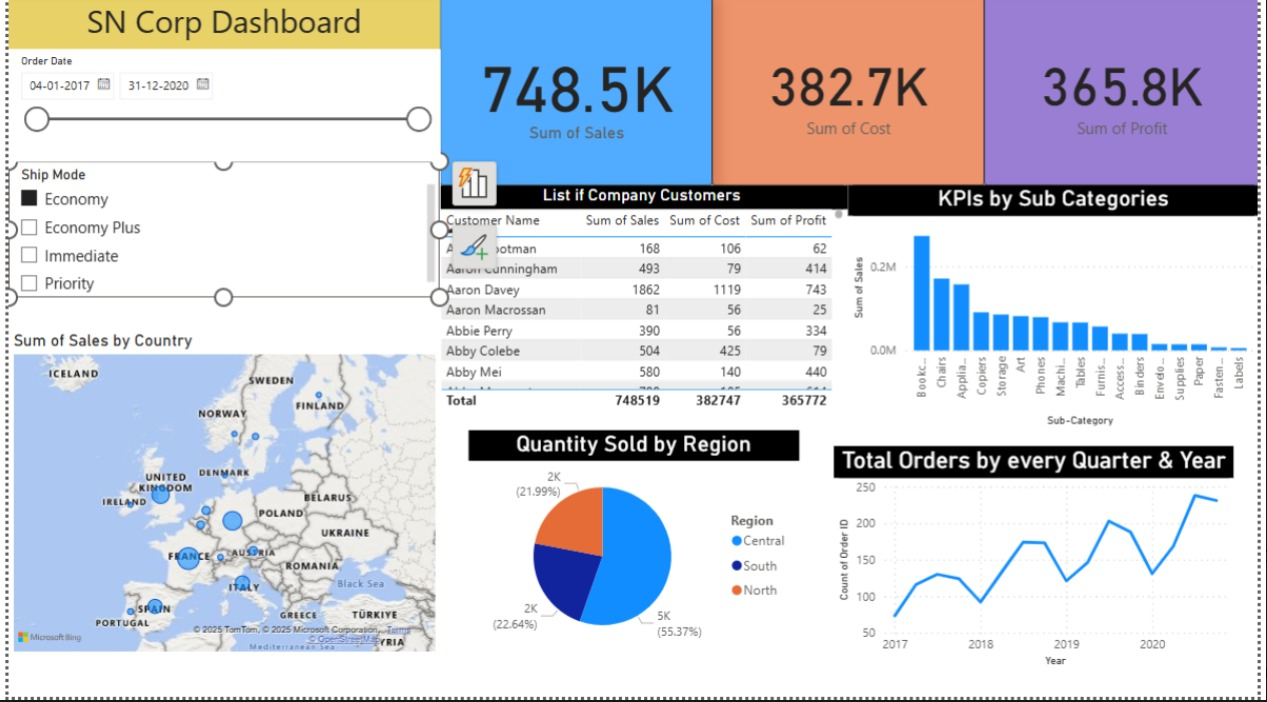

The dashboard page shown, as its layout file describes it:
{"tool":"powerbi","page":{"name":"Page 1","canvas":[1280,720],"ordinal":0},"visuals":[{"type":"card","fields":{"Values":["List of Orders.Sales"]},"box":[442,0,278.5,195.9],"z":0},{"type":"card","fields":{"Values":["List of Orders.Cost"]},"box":[720.6,0,278.5,195.9],"z":1000},{"type":"card","fields":{"Values":["List of Orders.Profit"]},"box":[999.1,0,281.7,195.9],"z":2000},{"type":"tableEx","title":"List if Company Customers","fields":{"Values":["List of Orders.Customer Name","List of Orders.Sales","List of Orders.Cost","List of Orders.Profit"]},"box":[437.2,195.9,422.6,234.8],"z":3000},{"type":"columnChart","title":"KPIs by Sub Categories","fields":{"Category":["List of Orders.Sub-Category"],"Y":["List of Orders.Sales"]},"box":[859.8,195.9,421,251],"z":4000},{"type":"lineChart","title":"Total Orders by every Quarter & Year","fields":{"Y":["List of Orders.Order ID"],"Category":["List of Orders.Order Date.Variation.Date Hierarchy.Year","List of Orders.Order Date.Variation.Date Hierarchy.Quarter"]},"box":[845.2,463.1,409.7,229.9],"z":5000},{"type":"pieChart","title":"Quantity Sold by Region ","fields":{"Category":["List of Orders.Region"],"Y":["List of Orders.Quantity"]},"box":[471.2,446.9,338.4,231.5],"z":6000},{"type":"textbox","box":[0,0,441.7,56.7],"z":7000},{"type":"slicer","fields":{"Values":["List of Orders.Ship Mode"]},"box":[0,171.7,441.7,140],"z":8000},{"type":"slicer","fields":{"Values":["List of Orders.Order Date"]},"box":[0,56.7,441.7,115],"z":9000},{"type":"map","fields":{"Category":["List of Orders.Country"],"Size":["List of Orders.Sales"]},"box":[0,344.9,442,333.6],"z":10000}]}

Visuals, with their boxes in screenshot pixels (x1, y1, x2, y2), scaled from the page's 1280x720 canvas onto the 1267x702 screenshot:
card - List of Orders.Sales: (x1=438, y1=0, x2=713, y2=191)
card - List of Orders.Cost: (x1=713, y1=0, x2=989, y2=191)
card - List of Orders.Profit: (x1=989, y1=0, x2=1266, y2=191)
"List if Company Customers" tableEx: (x1=433, y1=191, x2=851, y2=420)
"KPIs by Sub Categories" columnChart: (x1=851, y1=191, x2=1266, y2=436)
"Total Orders by every Quarter & Year" lineChart: (x1=837, y1=452, x2=1242, y2=676)
"Quantity Sold by Region " pieChart: (x1=466, y1=436, x2=801, y2=661)
textbox: (x1=0, y1=0, x2=437, y2=55)
slicer - List of Orders.Ship Mode: (x1=0, y1=167, x2=437, y2=304)
slicer - List of Orders.Order Date: (x1=0, y1=55, x2=437, y2=167)
map - List of Orders.Country x List of Orders.Sales: (x1=0, y1=336, x2=438, y2=662)
